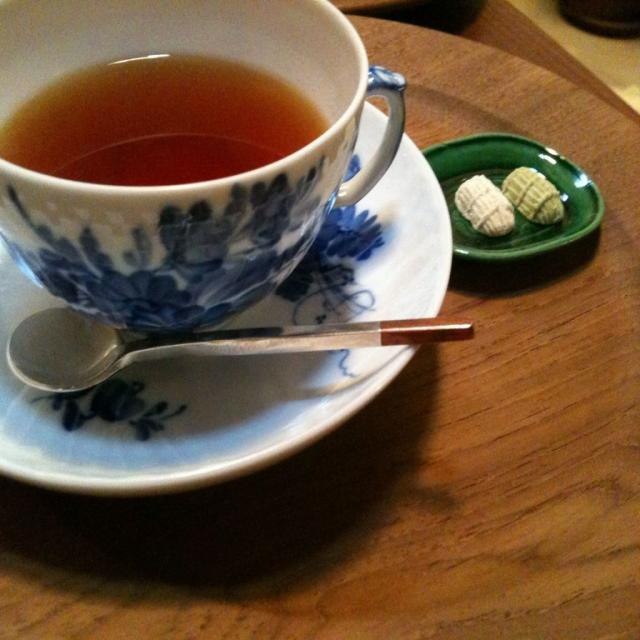Tea: (0, 48, 331, 184)
